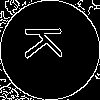K: (25, 25, 71, 59)
